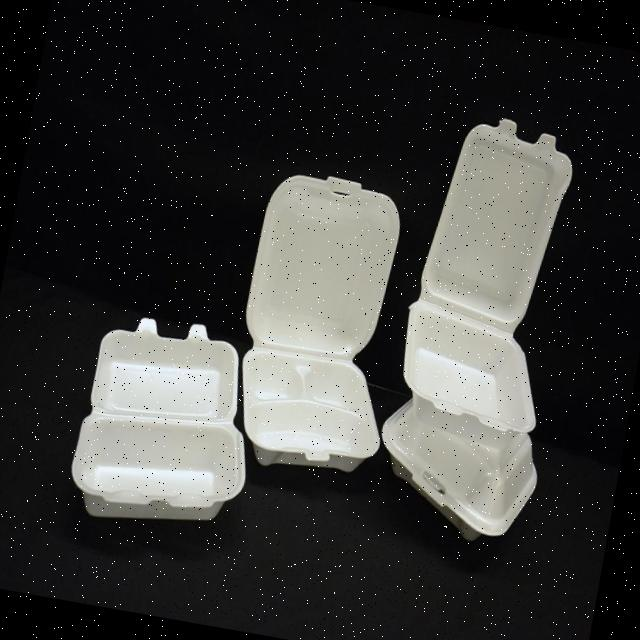styrofoam: (364, 104, 598, 551), (218, 162, 424, 484), (62, 304, 271, 542)
